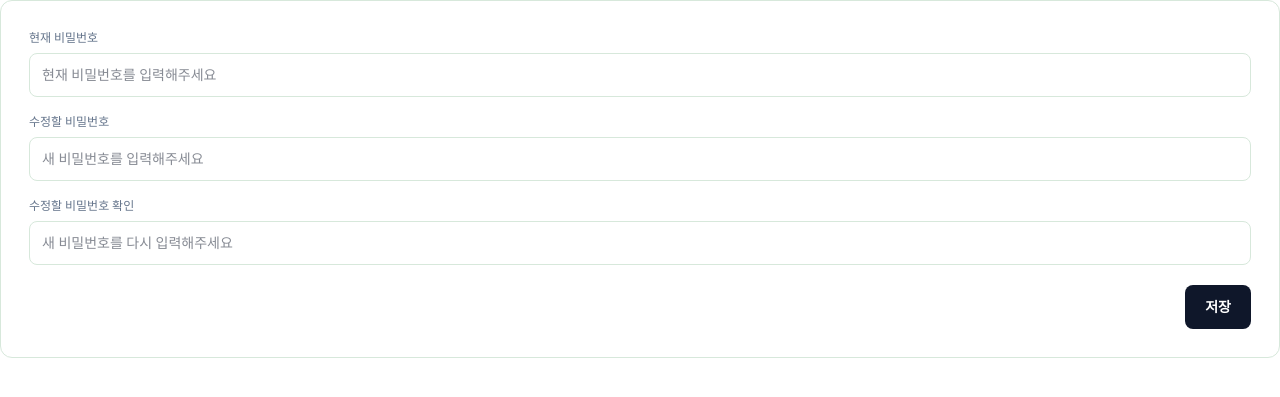
Test: MyPassword › 새 비밀번호가 8자 미만이면 에러 메시지를 노출하고 변경하지 않는다
This screenshot has width=1280, height=397.
Type "current1234" into the password field with placeholder "현재 비밀번호를 입력해주세요". click: (640, 75)
box: [29, 53, 1251, 97]
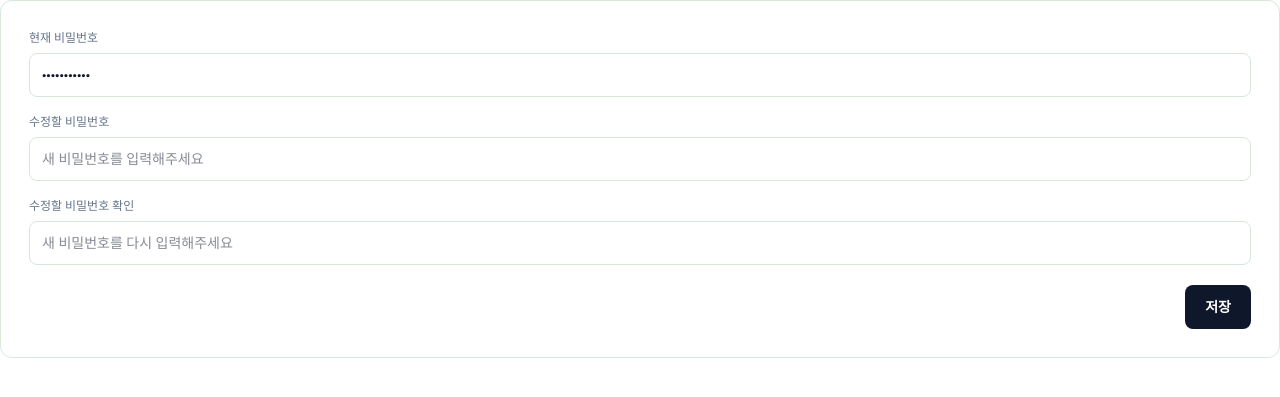
Type "short1" into the password field with placeholder "새 비밀번호를 입력해주세요". click: (640, 159)
box: [29, 137, 1251, 181]
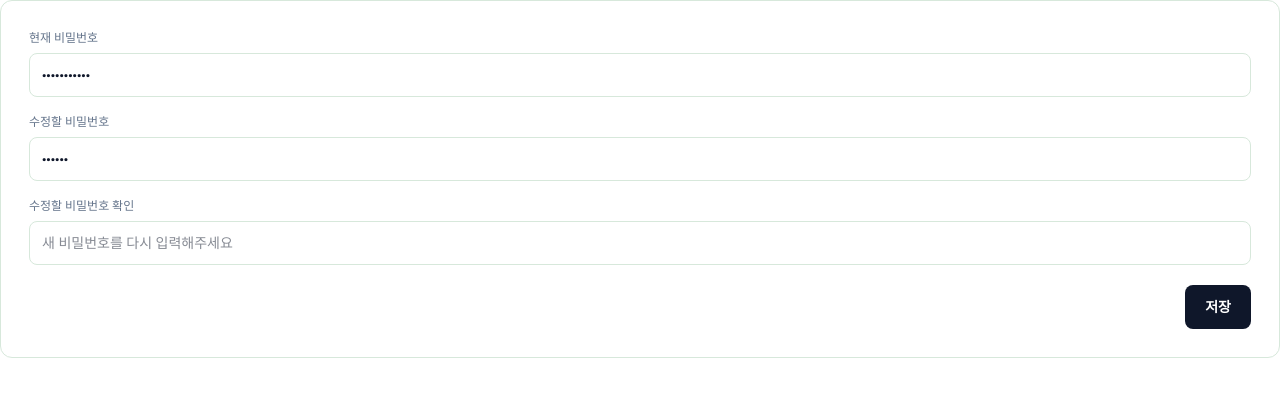
Type "short1" into the password field with placeholder "새 비밀번호를 다시 입력해주세요". click: (640, 243)
box: [29, 221, 1251, 265]
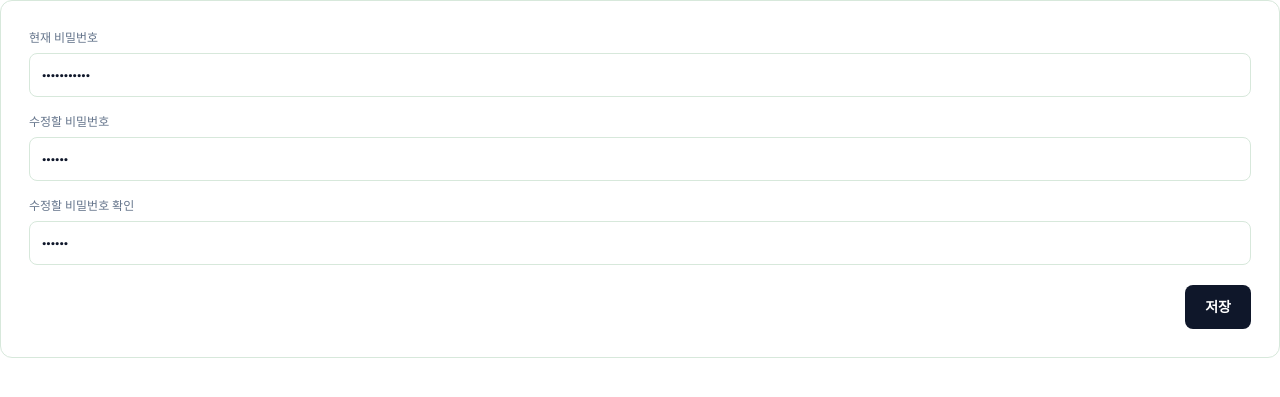
Click the button "저장". click: (1218, 307)
box: [1185, 285, 1251, 329]
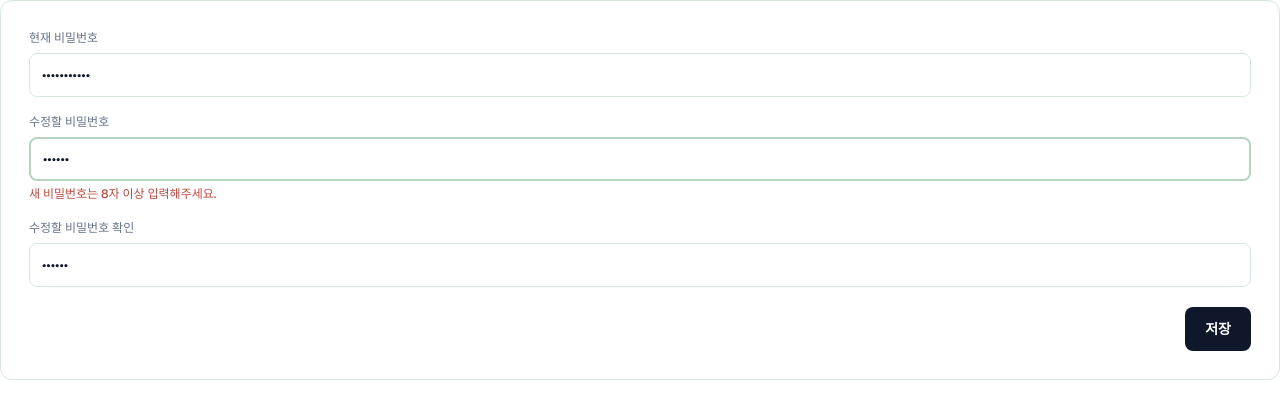
Expected: the text "새 비밀번호는 8자 이상 입력해주세요." is shown, [29, 186, 216, 202]
